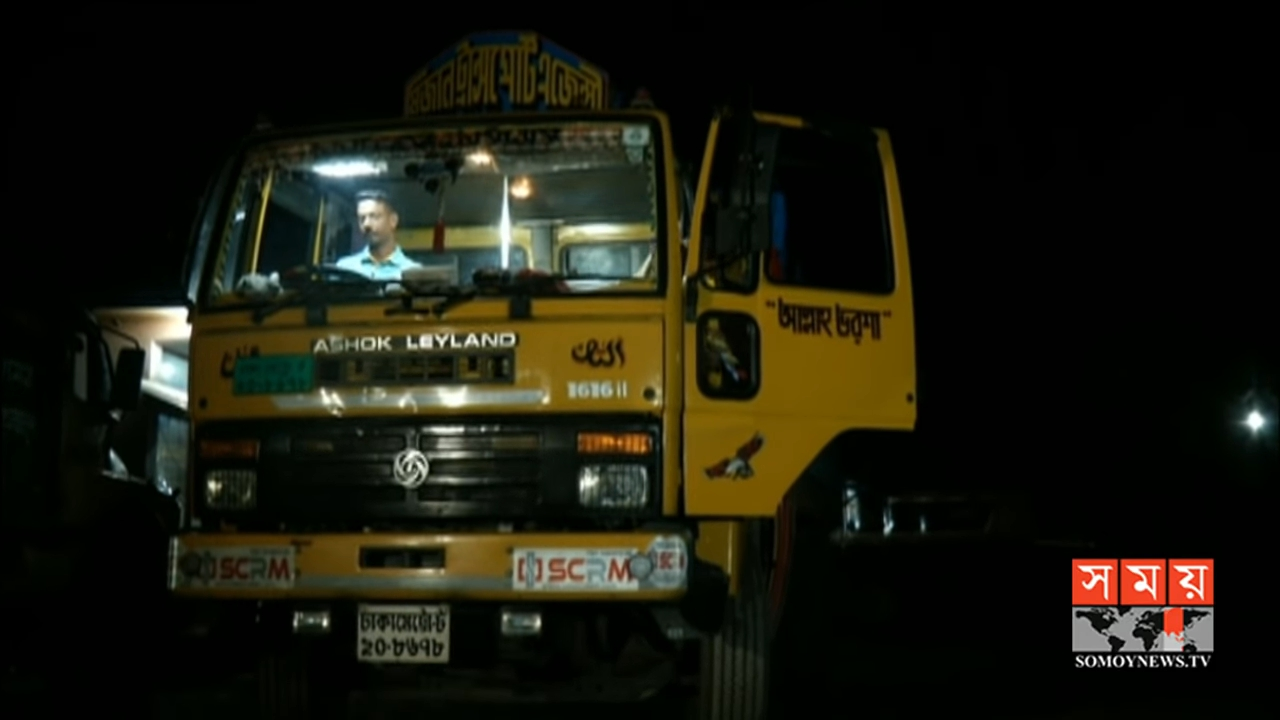truck: (176, 47, 969, 686)
